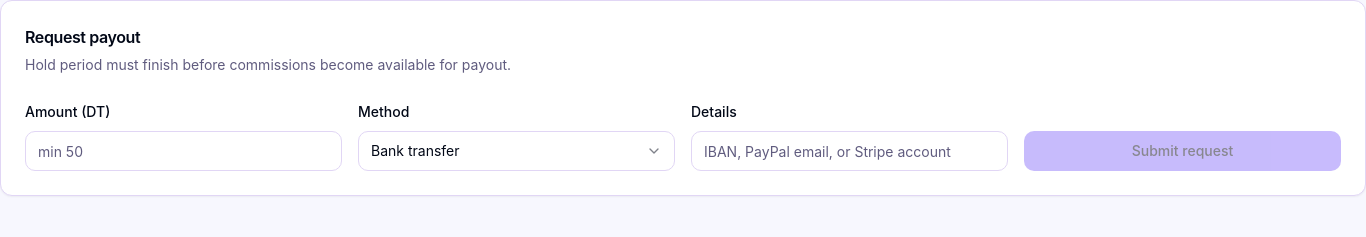
Test: Affiliate components › payout request form validates min and max
Later steps or results of the test are not shown.
Step 1. Type "20" into the number field labelled "Amount (DT)" → (184, 151), box [25,131,342,171]
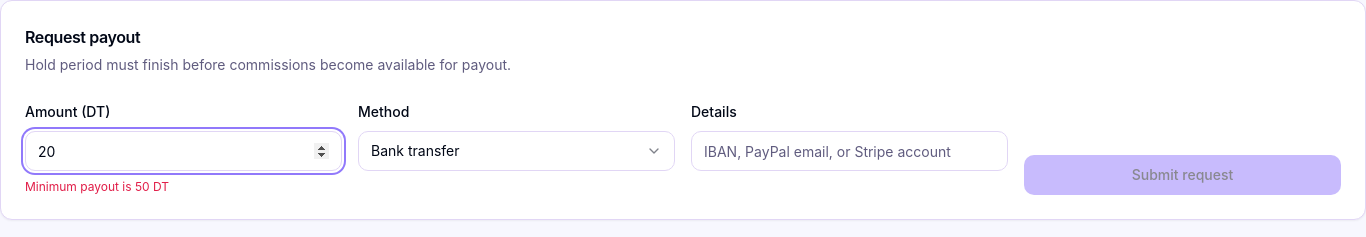
Expected: the button "Submit request" is disabled, [1024,155,1341,195]
Expected: the text "Minimum payout is 50 DT" is shown, [25,179,169,194]
Step 2. Replace the text in the number field labelled "Amount (DT)" with "150" → (184, 151), box [25,131,342,171]
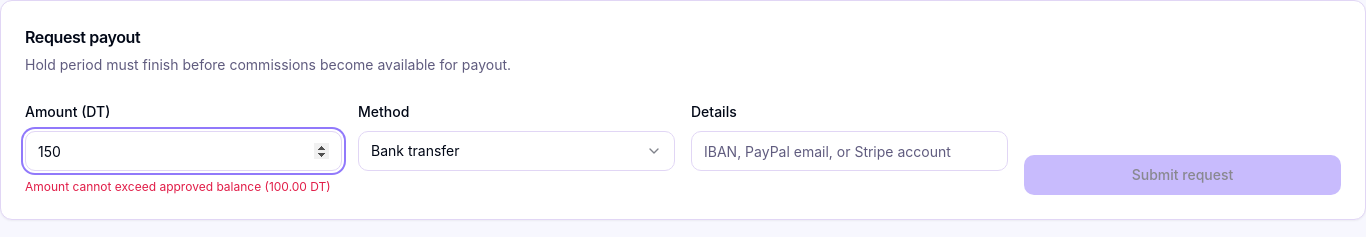
Expected: the button "Submit request" is disabled, [1024,155,1341,195]
Expected: the text "Amount cannot exceed approved balance (100.00 DT)" is shown, [25,179,342,195]
